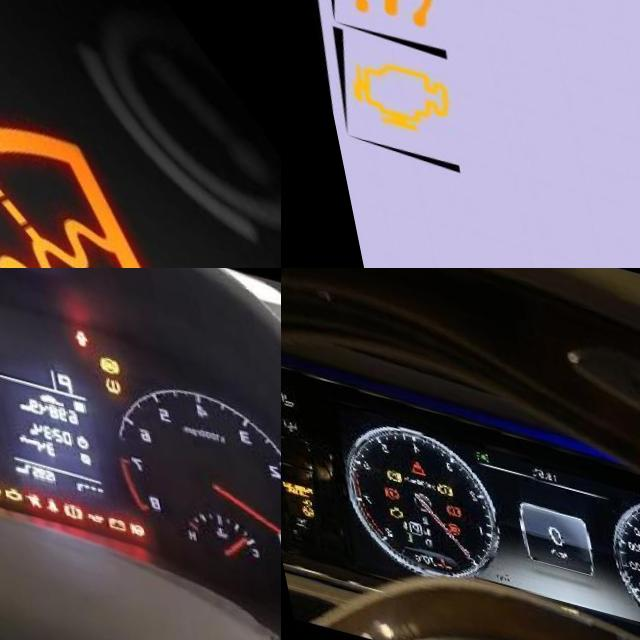Electronic Power Steering: (424, 510, 444, 531)
High Engine Coolant Temperature: (419, 549, 435, 565)
Seat Belt: (30, 482, 44, 498)
Washer Fluid: (0, 35, 177, 268)
